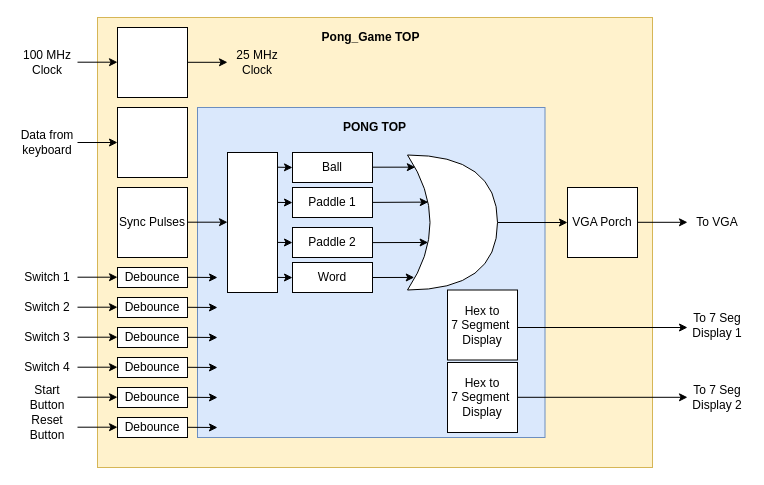
This 764x485 diagram has some shape labels left out. Here are the shapes that lost their labels. From the top down, the centre of each, then its label:
the point at 152,62: PLL
the point at 152,142: UART RX
the point at 252,222: Sync to Count
the point at 452,222: OR GATE
